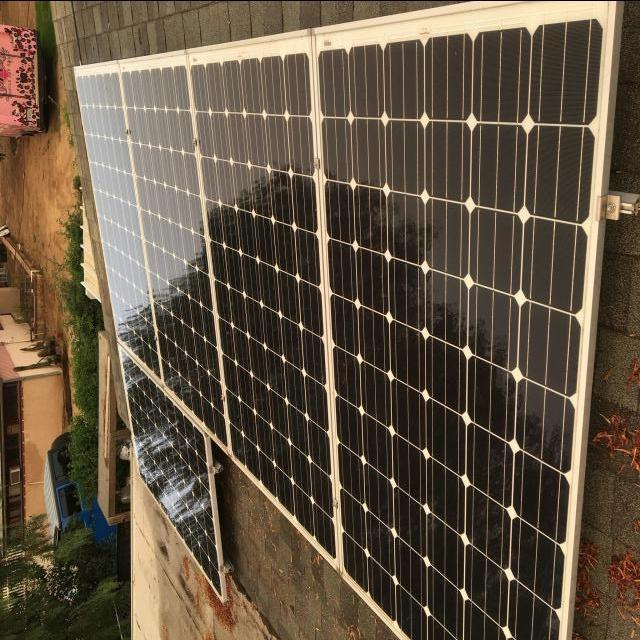no faulty: (75, 3, 620, 638)
